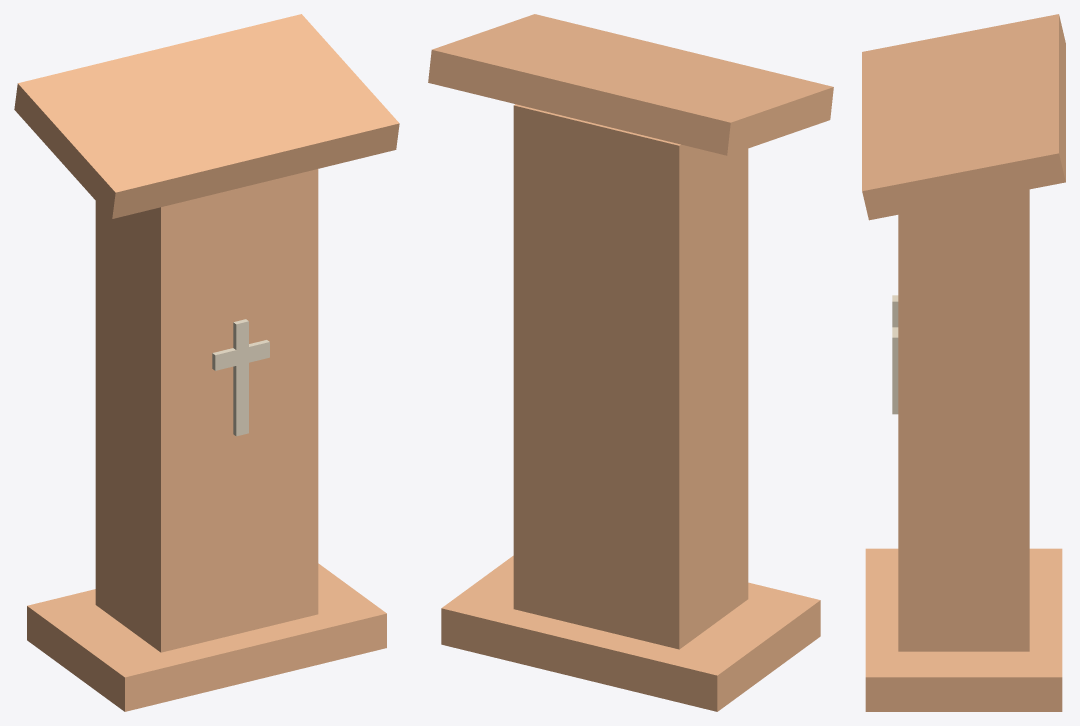
The picture shows the model from 3 angles, left to right: view 1: azimuth 30°, elevation 25°; view 2: azimuth 150°, elevation 25°; view 3: azimuth 270°, elevation 25°; orthographic projection. The views are drawn at different scales.
Visible parts, largest first — view 1: Body, Reading top, Foot, Cross upright, Cross arm; view 2: Body, Reading top, Foot; view 3: Body, Reading top, Foot, Cross upright.
Part boxes in pixels (x1=…): Body: x1=95, y1=169, x2=318, y2=652; Reading top: x1=14, y1=14, x2=399, y2=218; Foot: x1=27, y1=563, x2=386, y2=711; Cross upright: x1=233, y1=319, x2=248, y2=436; Cross arm: x1=212, y1=340, x2=269, y2=370; Body: x1=513, y1=104, x2=748, y2=649; Reading top: x1=428, y1=14, x2=833, y2=155; Foot: x1=441, y1=555, x2=820, y2=711; Body: x1=898, y1=189, x2=1029, y2=651; Reading top: x1=862, y1=14, x2=1065, y2=220; Foot: x1=865, y1=548, x2=1062, y2=711; Cross upright: x1=892, y1=295, x2=898, y2=414.
Bounding box in the file's own units: 66.3 × 125 × 40.97.
